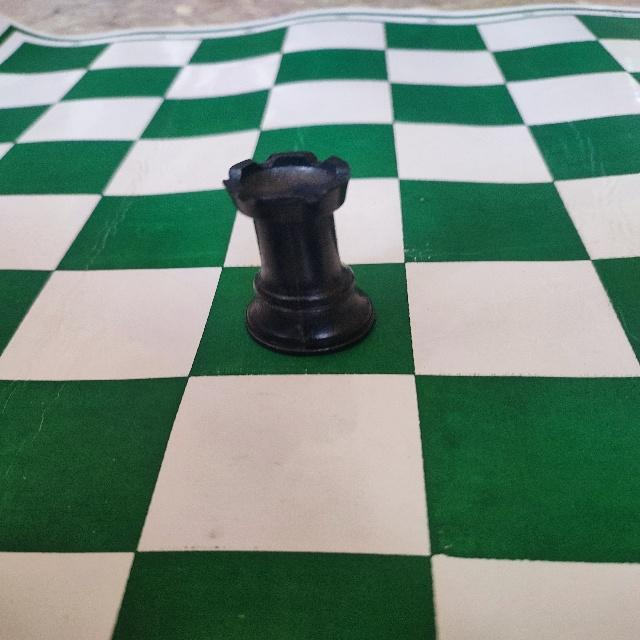Rook: (216, 142, 385, 359)
